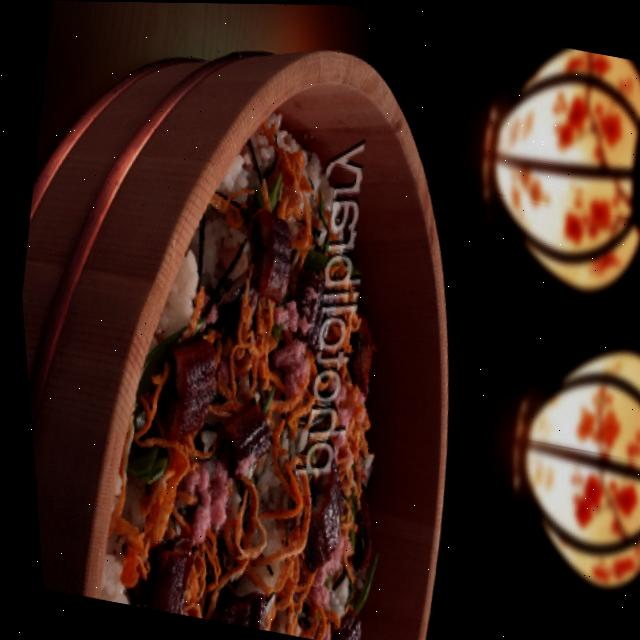寿司卷物: (0, 0, 528, 640)
